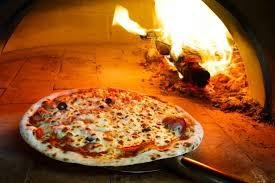fire: (152, 0, 238, 83), (110, 3, 148, 38)
